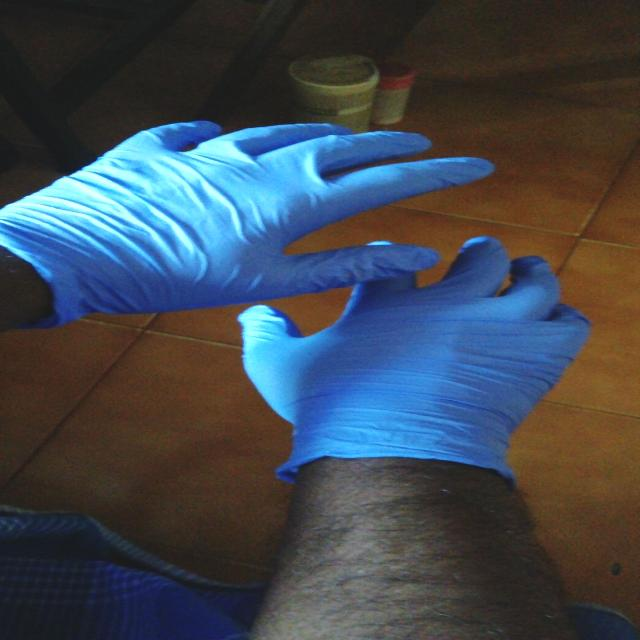glove: (4, 114, 502, 336), (231, 234, 603, 503)
